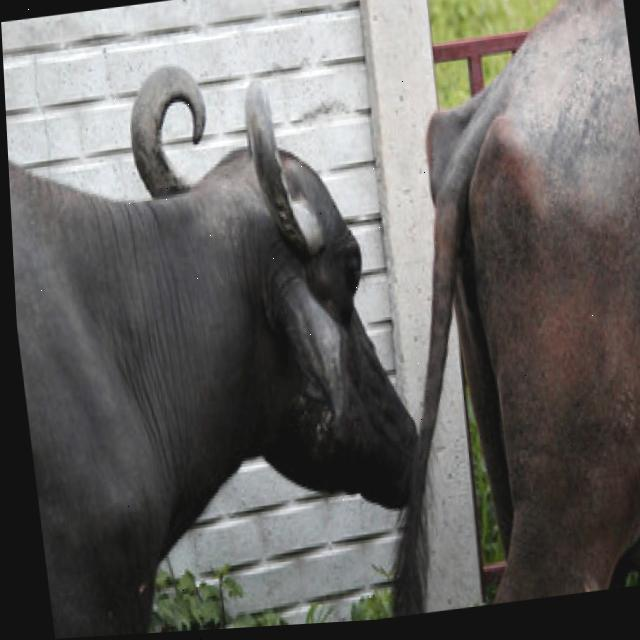Buffalo: (3, 26, 443, 640)
